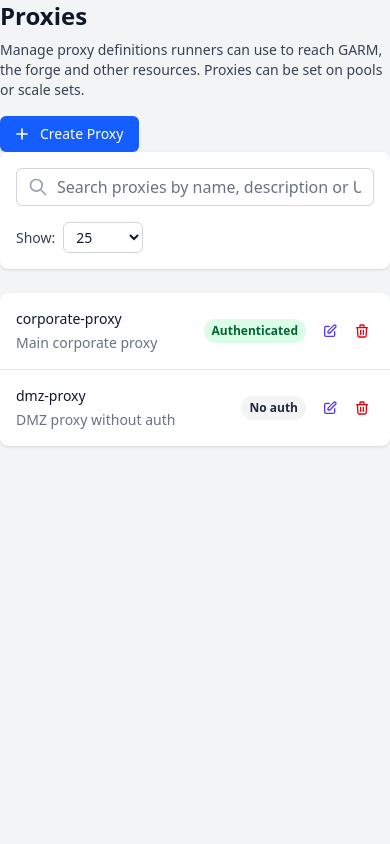
Test: Proxies Page - Integration Tests › opens the edit modal prefilled and with a blank password
Check: the text "corporate-proxy" is shown, box x1=16 y1=309 x2=122 y2=328
Click the button named "Edit" next to "Authenticated".
click(330, 331)  # box x1=318 y1=319 x2=342 y2=343
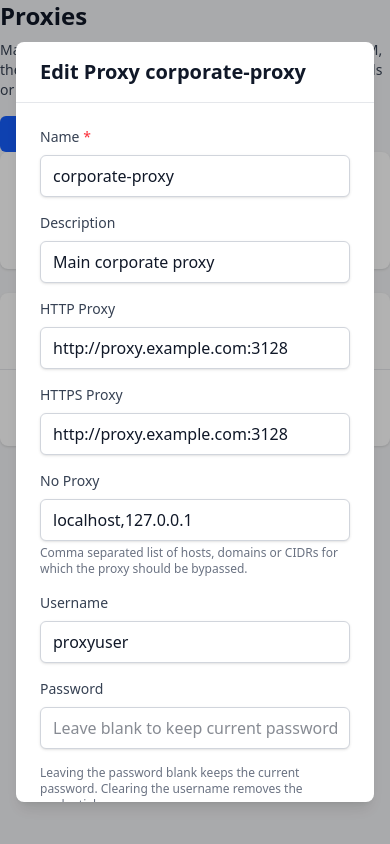
Check: the heading "Edit Proxy corporate-proxy" is shown, box x1=40 y1=58 x2=350 y2=86
Check: the field labelled "Name *" holds "corporate-proxy", box x1=40 y1=155 x2=350 y2=197
Check: the field labelled "Username" holds "proxyuser", box x1=40 y1=621 x2=350 y2=663
